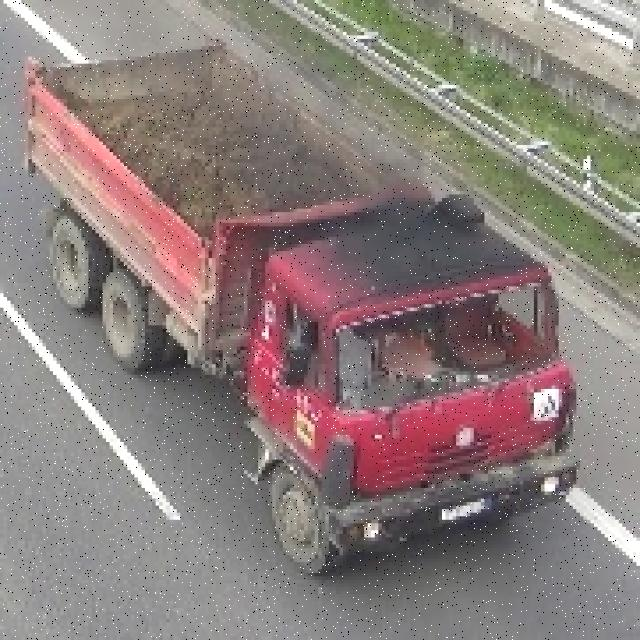truck: (18, 36, 576, 576)
